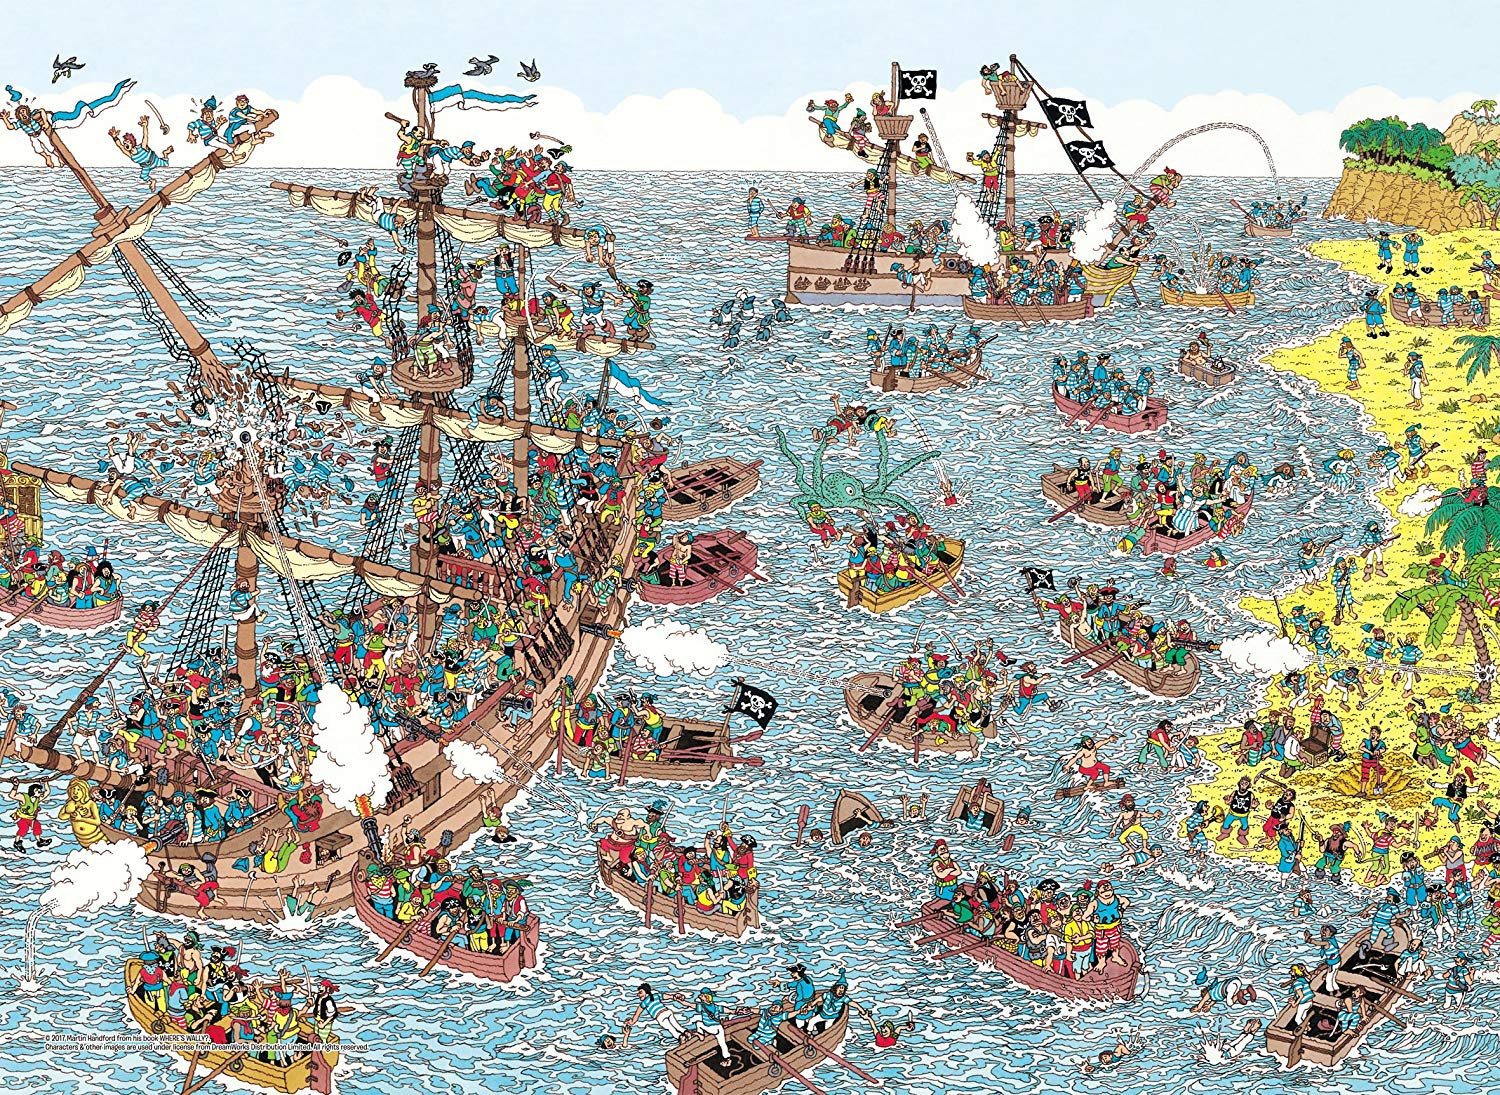waldo: (1463, 441, 1497, 493)
